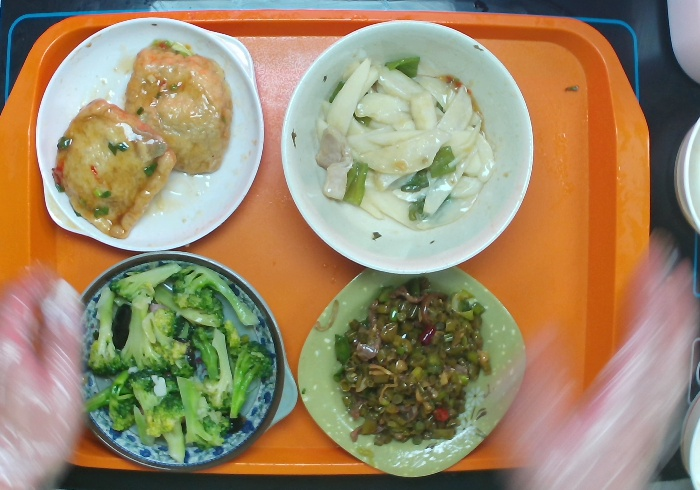NLDX-Bai_Se_Shuang_Er_Die: (34, 15, 267, 254)
NLDX-Bai_Se_Yuan_Wan: (281, 18, 534, 274)
NLDX-Lv_Hua_Fang_Die: (293, 258, 530, 480)
NLDX-Qing_Hua_Shuang_Er_Die: (66, 248, 301, 477)
